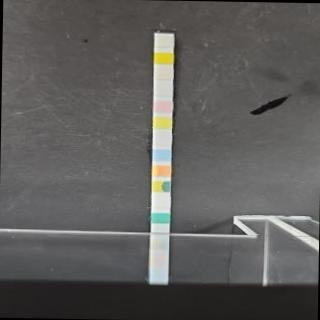mark: (153, 68, 173, 82), (152, 116, 172, 130), (153, 99, 172, 113), (154, 51, 173, 64), (150, 212, 169, 225), (152, 149, 172, 161), (154, 36, 173, 48), (153, 84, 172, 96), (152, 165, 171, 177), (151, 197, 170, 209), (152, 134, 172, 145), (152, 180, 170, 192)
